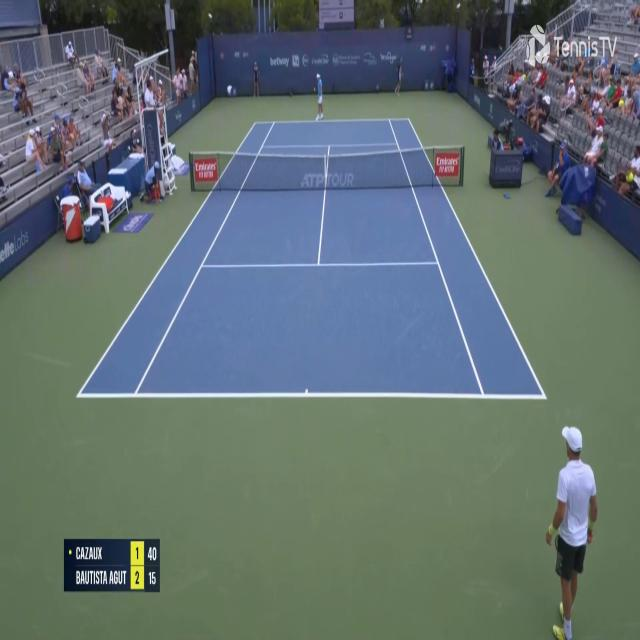tennis-player: (544, 420, 599, 638), (311, 71, 326, 122)
